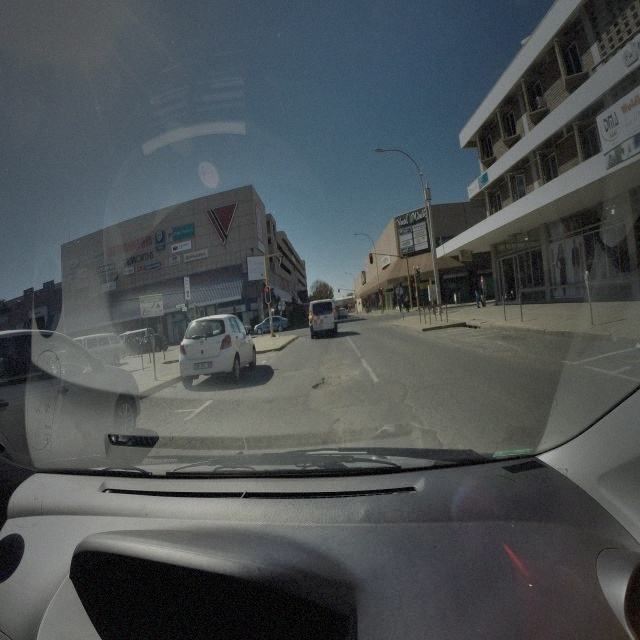pothole: (312, 376, 341, 393)
